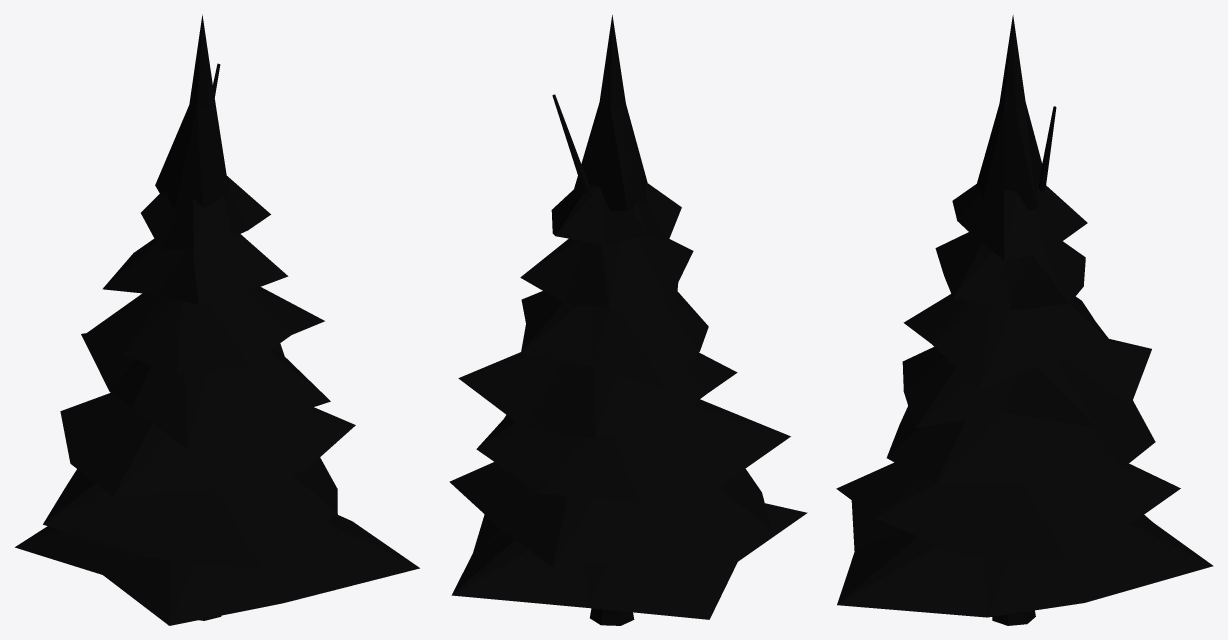
Rendered from SM_pine_tall.fbx.
The picture shows the model from 3 angles, left to right: view 1: azimuth 30°, elevation 25°; view 2: azimuth 150°, elevation 25°; view 3: azimuth 270°, elevation 25°; orthographic projection.
Parts seen in each view (by area): view 1: pine_tall_crown; view 2: pine_tall_crown, pine_tall; view 3: pine_tall_crown.
Part boxes in pixels (left/top/right/bottom): pine_tall_crown: left=15, top=14, right=419, bottom=625; pine_tall_crown: left=449, top=15, right=807, bottom=619; pine_tall: left=590, top=608, right=634, bottom=625; pine_tall_crown: left=836, top=15, right=1213, bottom=617.
Size of the model in its own units: 6.58 by 12.68 by 7.2.
